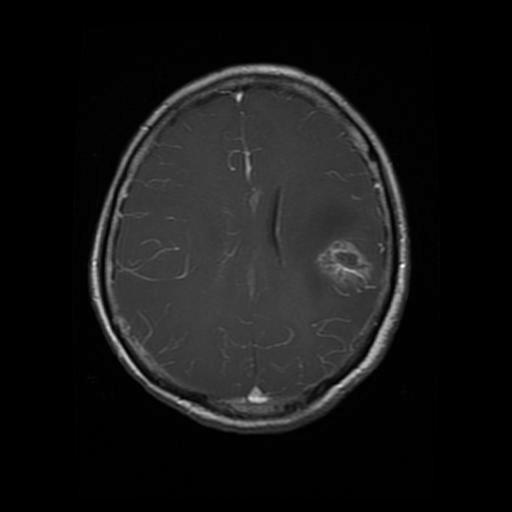Tumour-Glioma: (321, 232, 395, 296)
